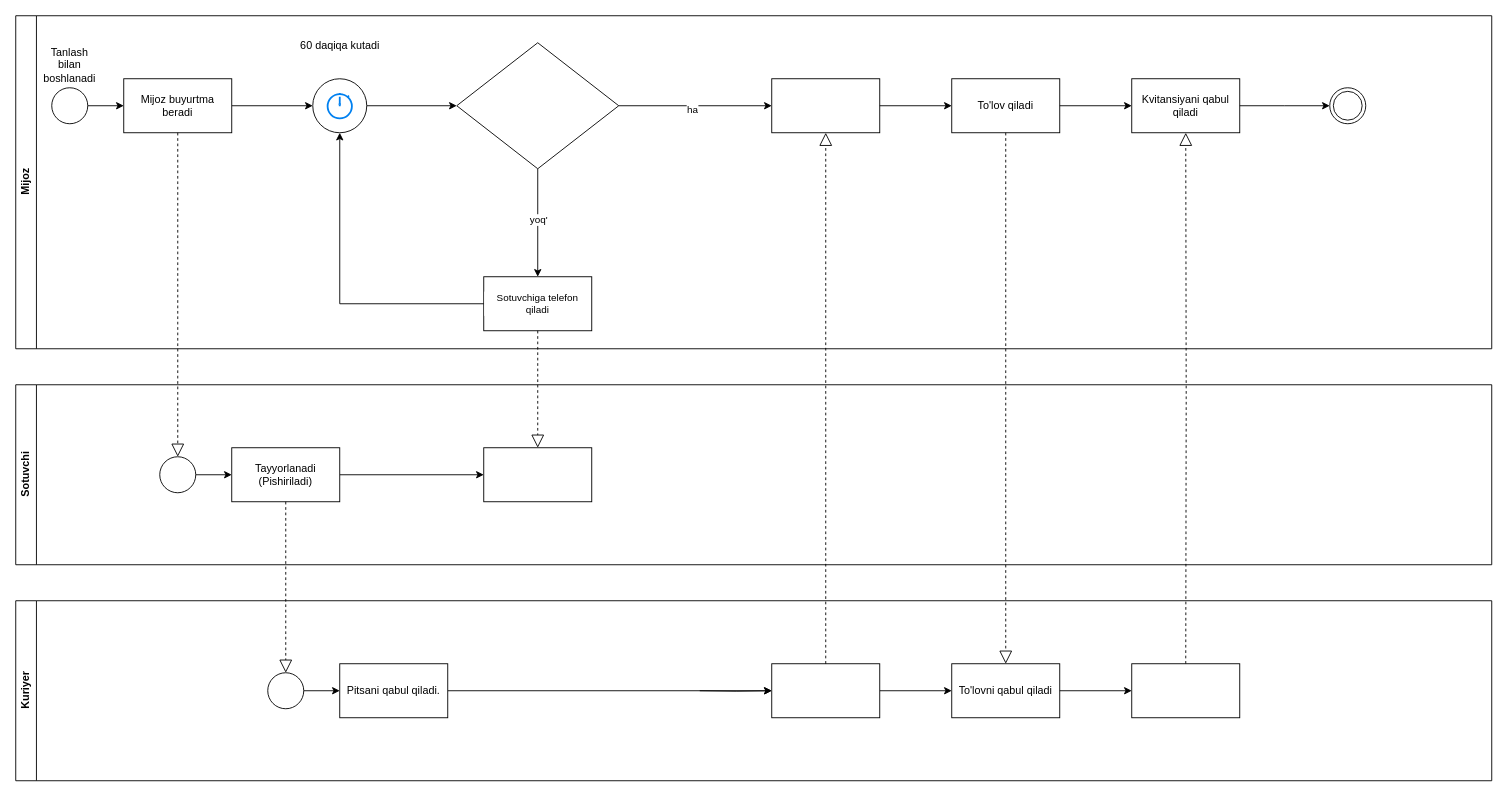
Image size: 1508x797. Some labels were removed from this diagram. The shapes that lost their labels are listed below. From the top down, each one's centre as x and y in pixels, then its label:
the point at 537,105: 60 daqiqadan keyin oldimi
the point at 825,105: Qabul qiladi
the point at 537,474: Tez orada yetkazib berilishi vada beriladi
the point at 825,690: Yetkazib beradi.
the point at 1185,690: Kvitansiya beradi
